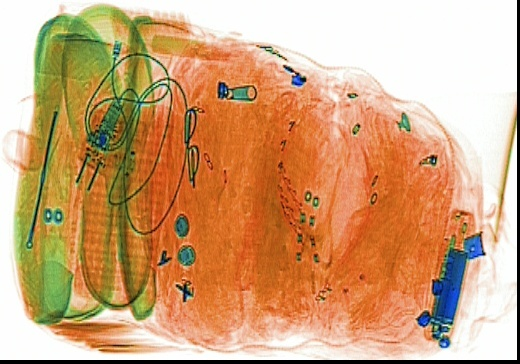powerbank: (421, 207, 475, 343)
